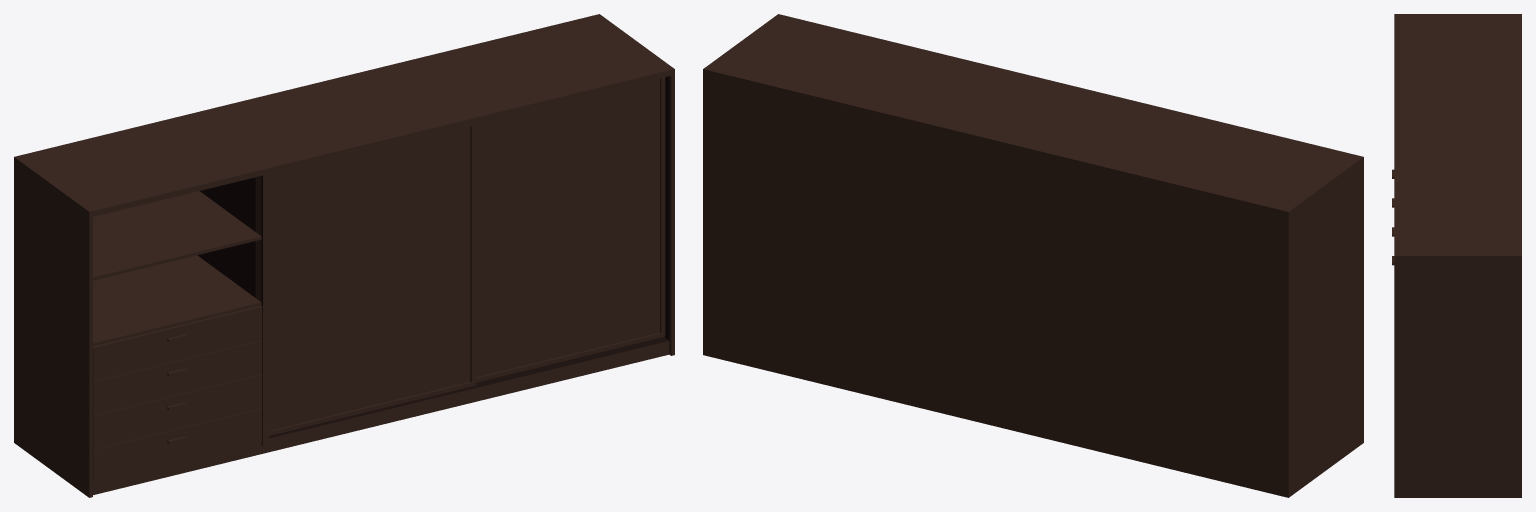
File: wardrobe.fbx
3 renders of one model, left to right at view 1: azimuth 30°, elevation 25°; view 2: azimuth 150°, elevation 25°; view 3: azimuth 270°, elevation 25°, orthographic. The views are drawn at different scales.
Parts seen in each view (by area): view 1: szafka; view 2: szafka; view 3: szafka.
Boxes of the visible parts, <box> form: szafka: <box>14,14,674,497</box>; szafka: <box>703,14,1363,497</box>; szafka: <box>1392,14,1521,497</box>.
Size of the model in its own units: 196 by 91.26 by 44.38.
